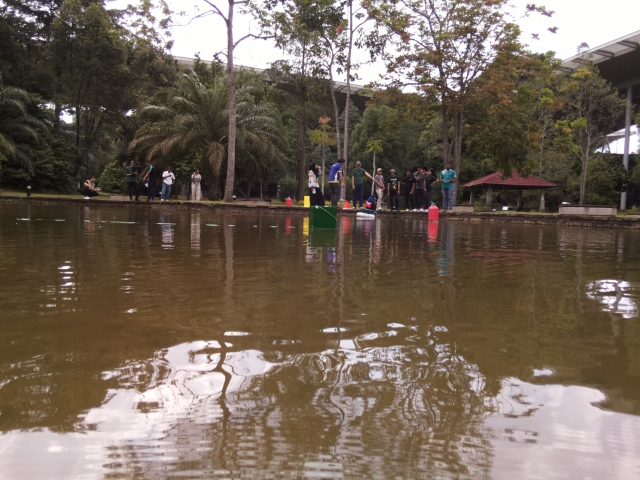obstacle: (311, 206, 337, 231)
